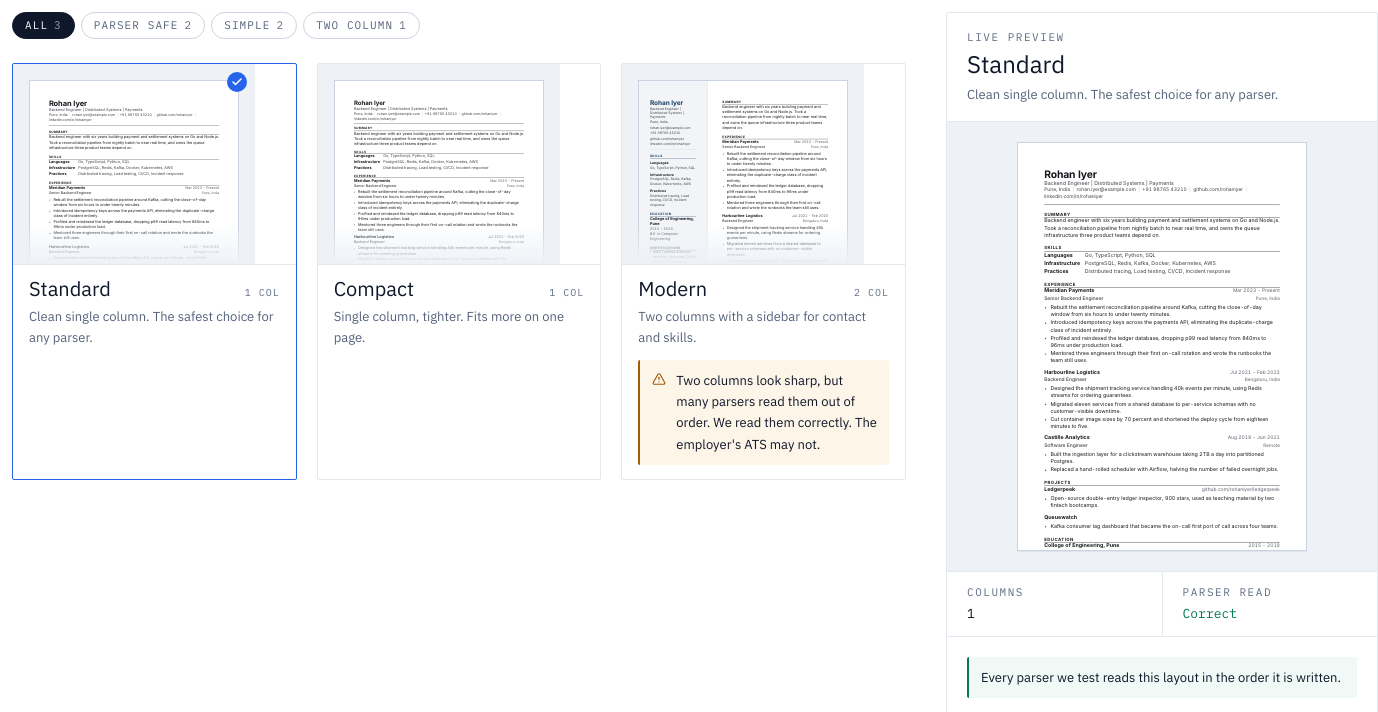
Test case: TemplatePicker › states the parser risk as a word, not only as a colour
Expected: the text "Correct" is shown, x1=1182 y1=606 x2=1237 y2=622
Click the radio button named "Modern": (764, 271) x1=621 y1=62 x2=906 y2=480
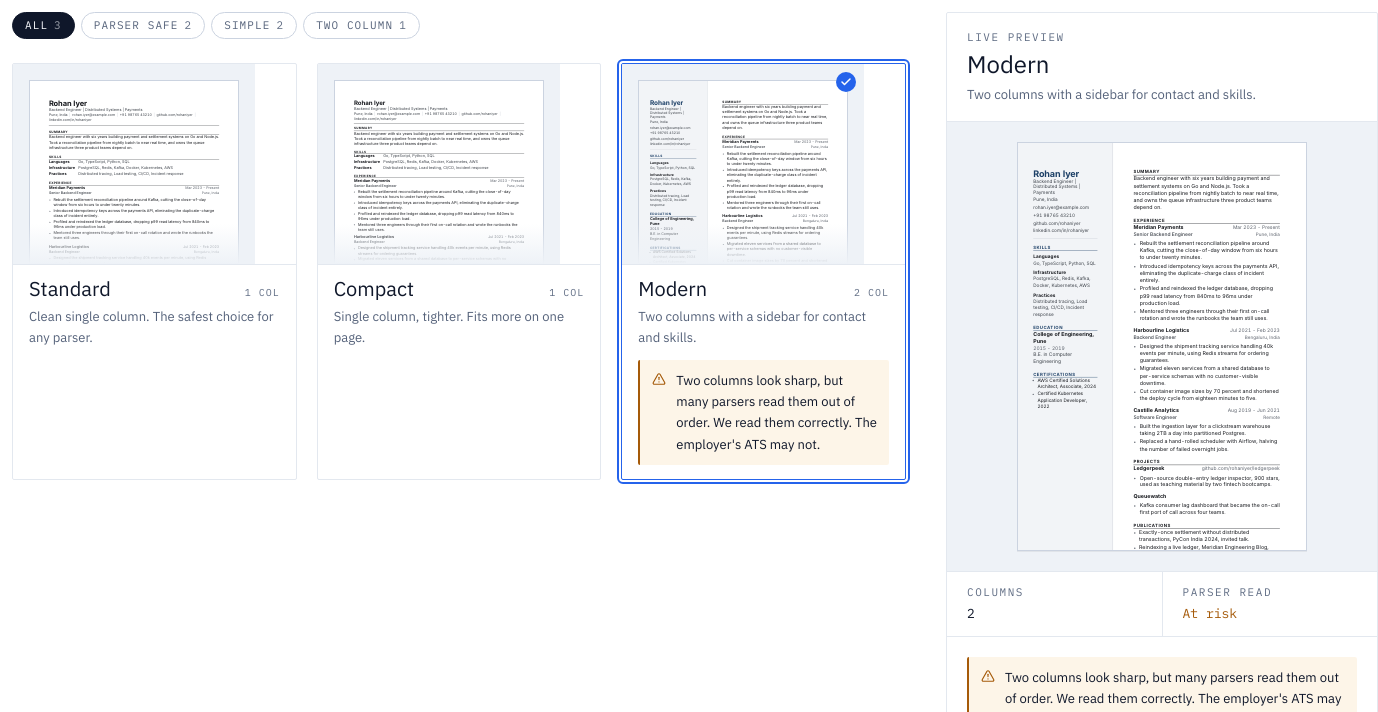
Result: the text "At risk" is shown at x1=1182 y1=606 x2=1237 y2=622
